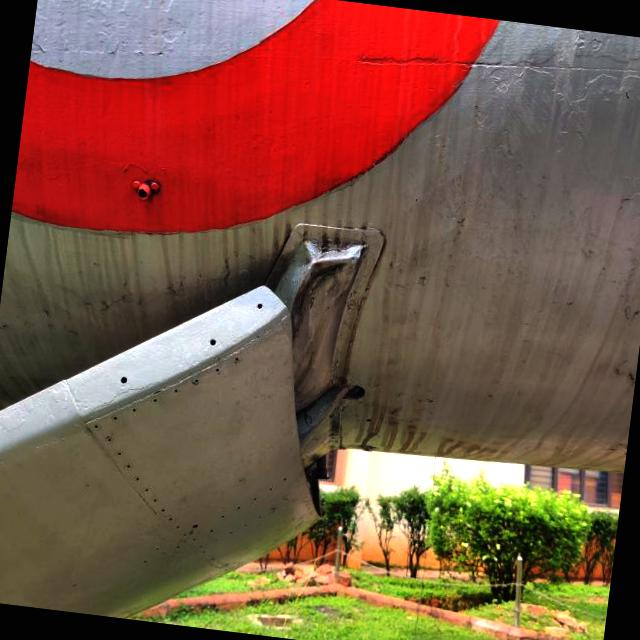dent: (273, 229, 377, 394)
